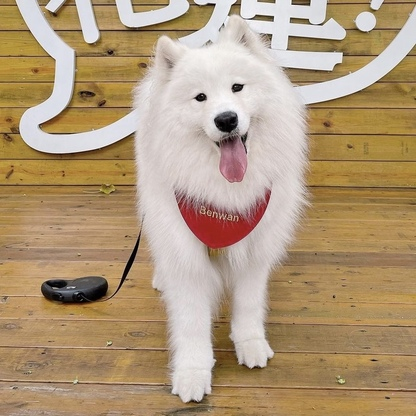samoyed: (119, 11, 322, 408)
